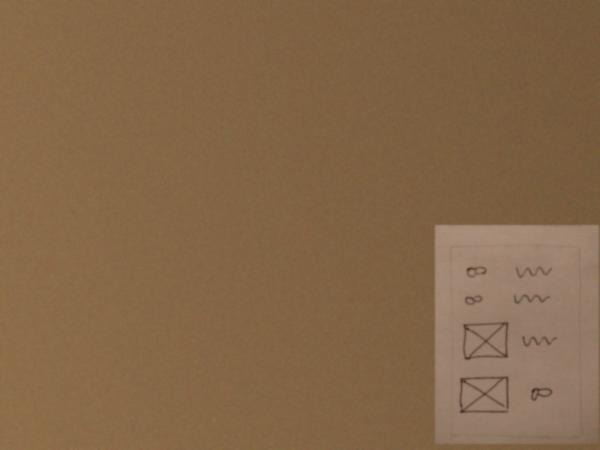image: (456, 374, 513, 417), (461, 319, 515, 363)
switch: (525, 380, 555, 404), (462, 260, 490, 279), (462, 290, 486, 307)
text: (518, 330, 559, 351), (511, 263, 558, 280), (510, 290, 555, 307)
